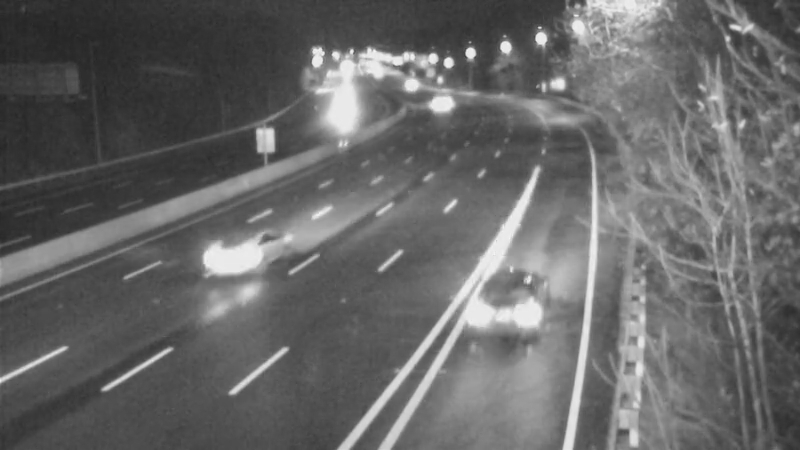vehicle: (448, 251, 558, 361), (192, 208, 272, 288), (414, 80, 464, 130)
